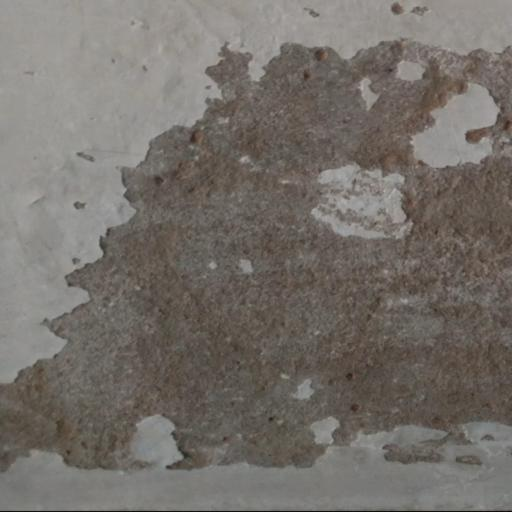peeling: (0, 19, 512, 482)
